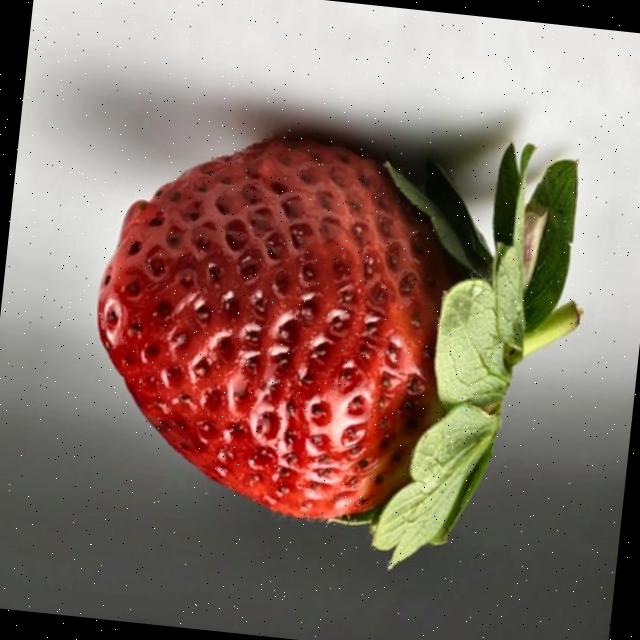strawberry: (96, 138, 578, 565)
